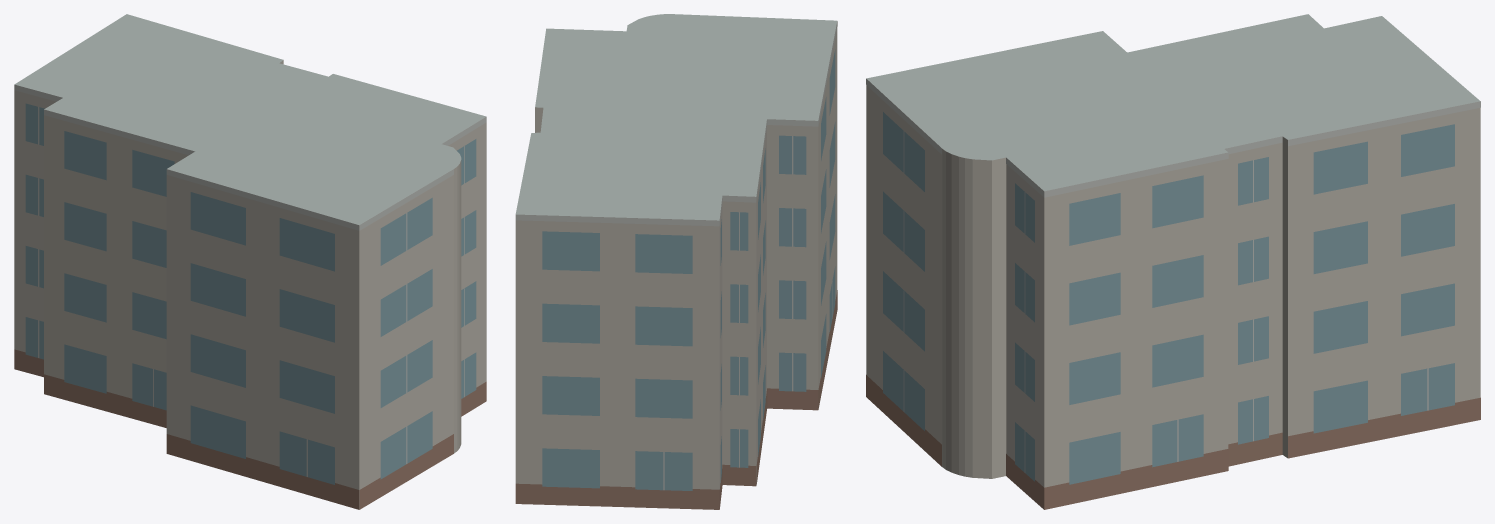
File: survey-upis-32818561.glb
The picture shows the model from 3 angles, left to right: view 1: azimuth 30°, elevation 25°; view 2: azimuth 150°, elevation 25°; view 3: azimuth 270°, elevation 25°; orthographic projection. The views are drawn at different scales.
Visible parts, largest first — view 1: survey-upis-32818561.tmp; view 2: survey-upis-32818561.tmp; view 3: survey-upis-32818561.tmp.
Boxes of the visible parts, bbox=[...] form: survey-upis-32818561.tmp: bbox=[14, 14, 486, 509]; survey-upis-32818561.tmp: bbox=[515, 14, 837, 509]; survey-upis-32818561.tmp: bbox=[866, 14, 1480, 509].
Size of the model in its own units: 14.58 by 12.2 by 21.34.
